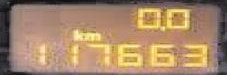-: (158, 24, 164, 30)
0: (133, 7, 160, 28), (162, 7, 187, 28)
1: (34, 41, 45, 64), (67, 43, 78, 65)
3: (180, 43, 207, 65)
6: (147, 42, 173, 67), (113, 43, 140, 65)
7: (84, 41, 109, 64)
X: (82, 32, 100, 41), (69, 28, 82, 40)
